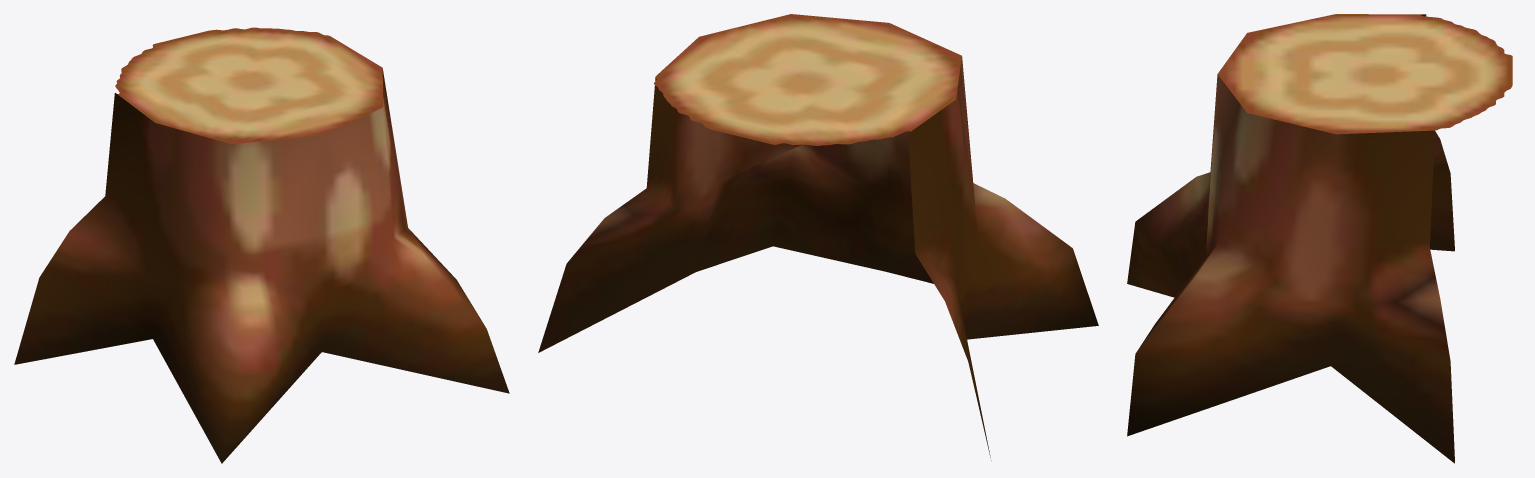
Rendered from fg_treeB_r_3.dae.
3 views of the same model, side by side, from view 1: azimuth 30°, elevation 25°; view 2: azimuth 150°, elevation 25°; view 3: azimuth 270°, elevation 25° (orthographic). The views are drawn at different scales.
Parts seen in each view (by area): view 1: vsn_mesh_0_; view 2: vsn_mesh_0_; view 3: vsn_mesh_0_.
Boxes of the visible parts, <box> form: vsn_mesh_0_: <box>14,27,509,463</box>; vsn_mesh_0_: <box>538,14,1098,460</box>; vsn_mesh_0_: <box>1127,14,1512,463</box>.
Bounding box in the file's own units: 31.18 × 19.55 × 24.41.
